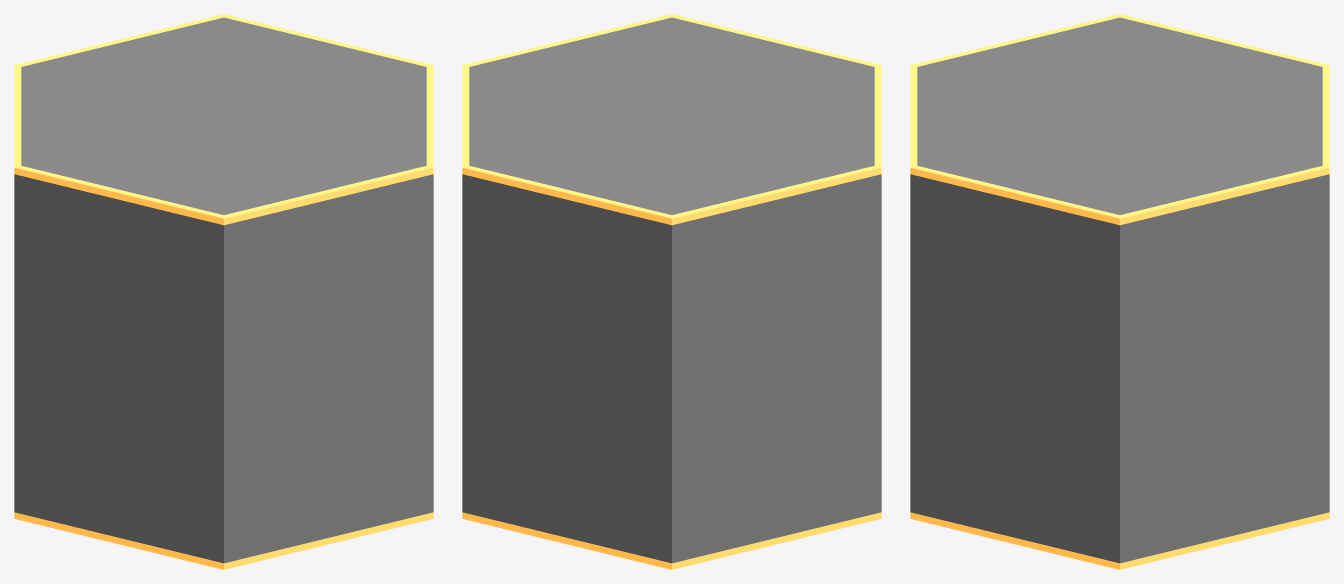
The model's file is Hexagon.FBX.
3 views of the same model, side by side, from view 1: azimuth 30°, elevation 25°; view 2: azimuth 150°, elevation 25°; view 3: azimuth 270°, elevation 25° (orthographic).
Visible parts, largest first — view 1: Hexagon; view 2: Hexagon; view 3: Hexagon.
Boxes of the visible parts, left/top/right/bottom form: Hexagon: left=14, top=14, right=433, bottom=569; Hexagon: left=462, top=14, right=881, bottom=569; Hexagon: left=910, top=14, right=1329, bottom=569.
Bounding box in the file's own units: 100 × 86.6 × 80.
